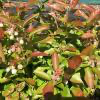Blueberry leaf: (64, 53, 87, 71), (82, 62, 96, 91), (40, 78, 58, 99), (21, 14, 41, 29), (29, 35, 53, 45), (31, 49, 52, 60), (52, 49, 61, 73), (67, 19, 85, 28), (25, 77, 38, 87)
